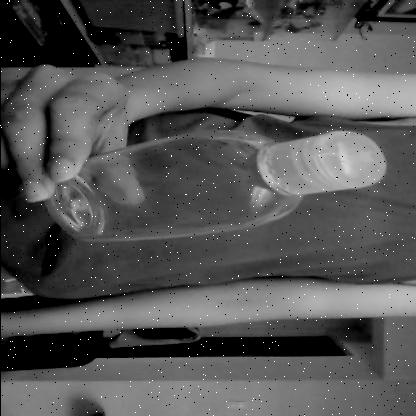Plastic Bottle: (46, 129, 385, 247)
